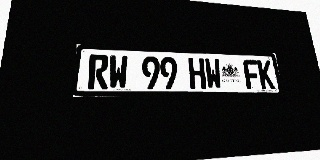9: (142, 56, 160, 89), (160, 57, 178, 89)
F: (243, 59, 261, 89)
H: (188, 58, 206, 89)
K: (257, 60, 275, 89)
R: (88, 54, 109, 89)
W: (108, 55, 128, 89), (204, 58, 222, 89)
